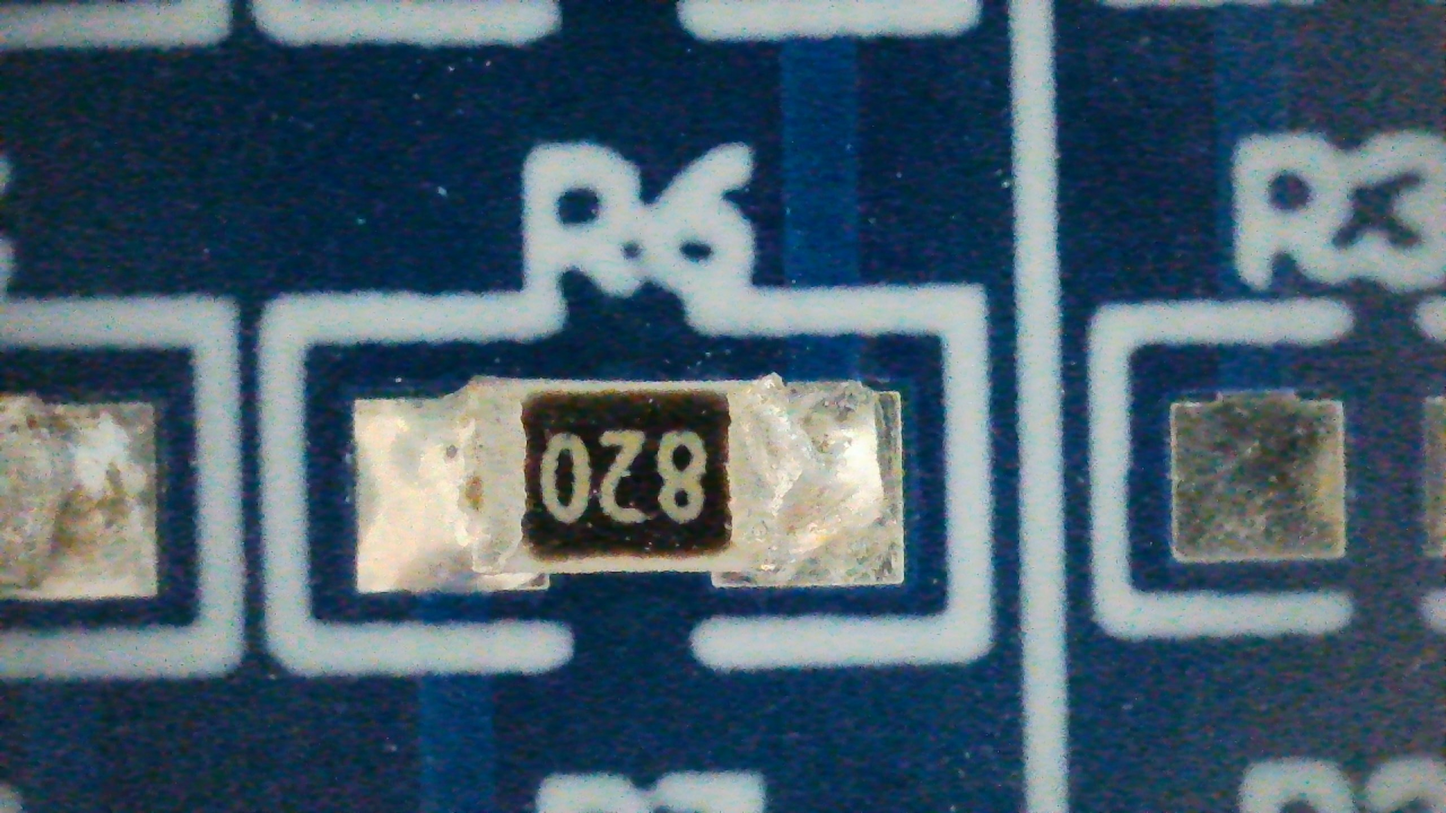NG: (354, 372, 906, 593)
